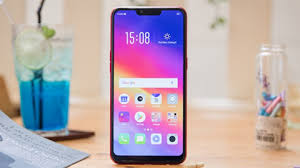oppo: (108, 5, 191, 163)
